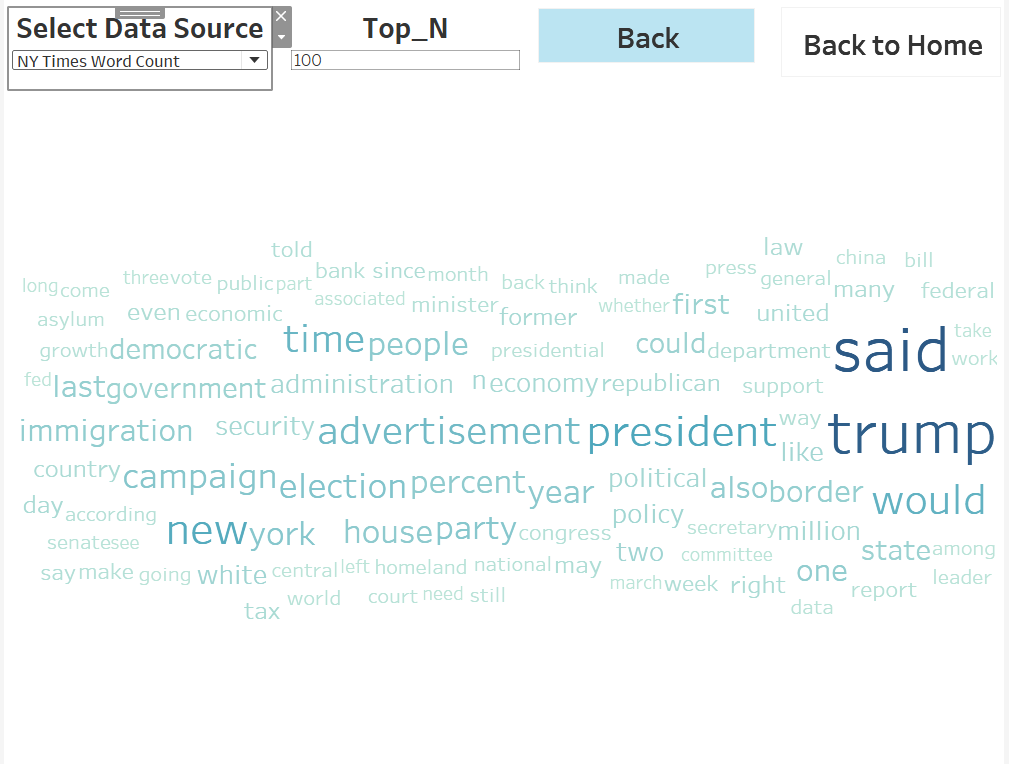

What the dashboard file says about the page in this screenshot:
{"tool":"tableau","page":{"name":"big_wcount_dash","canvas":[1000,800],"ordinal":4},"visuals":[{"type":"worksheet","title":"Back","mark":"Automatic","box":[777,9,220,70]},{"type":"parameter","param":"[Parameters].[Parameter 1]","box":[5,10,262,81]},{"type":"parameter","param":"[Parameters].[Parameter 3]","box":[284,10,235,65]},{"type":"worksheet","title":"Back_1","mark":"Automatic","box":[534,10,217,55]},{"type":"worksheet","title":"big_twitter","mark":"Text","box":[18,115,977,662]},{"type":"worksheet","title":"big_ny","mark":"Text","box":[12,126,981,651]},{"type":"worksheet","title":"big_cc","mark":"Text","box":[14,152,982,624]}]}

Visuals, with their boxes on the page's 1000x800 design canvas (x1, y1, x2, y2). These are canvas units, not pixel positions in the 1009x764 screenshot, which may show the page scaled, cropped or inside an application window:
"Back" worksheet: (777, 9, 997, 79)
parameter: (5, 10, 267, 91)
parameter: (284, 10, 519, 75)
"Back_1" worksheet: (534, 10, 751, 65)
"big_twitter" worksheet (Text marks): (18, 115, 995, 777)
"big_ny" worksheet (Text marks): (12, 126, 993, 777)
"big_cc" worksheet (Text marks): (14, 152, 996, 776)
